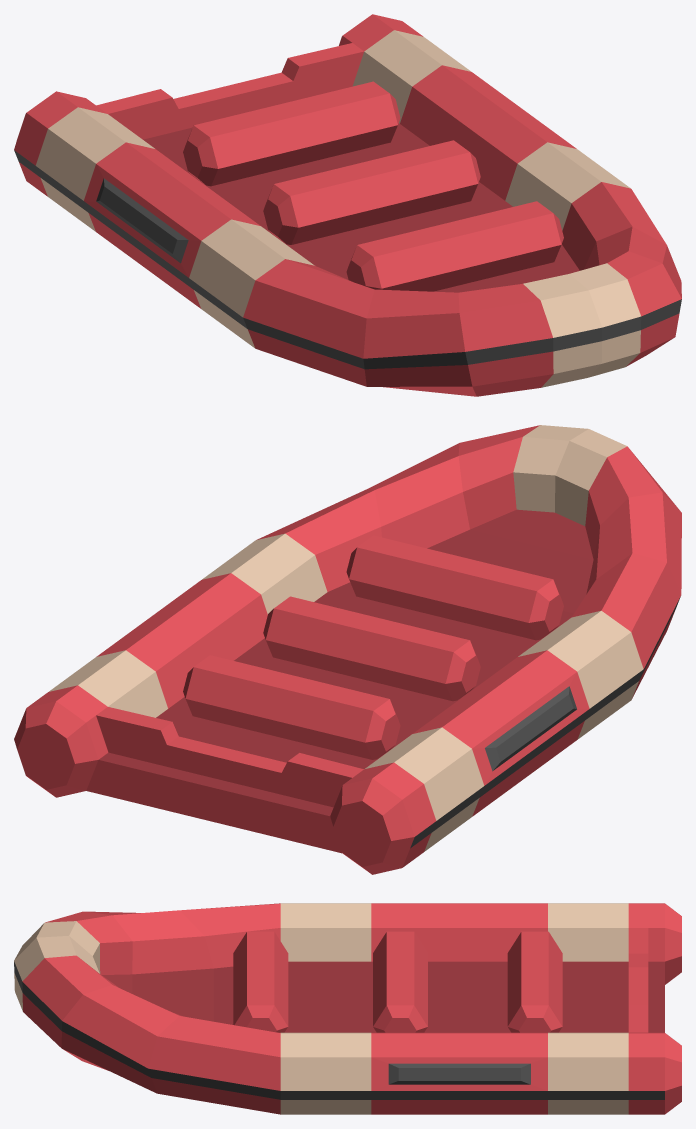
Rendered from Lifeboat.glb.
The picture shows the model from 3 angles, top to bottom: view 1: azimuth 30°, elevation 25°; view 2: azimuth 150°, elevation 25°; view 3: azimuth 270°, elevation 25°; orthographic projection. The views are drawn at different scales.
Visible parts, largest first — view 1: Lifeboat; view 2: Lifeboat; view 3: Lifeboat.
Part boxes in pixels (x1,y1,x2,y2): Lifeboat: (14,14,681,396); Lifeboat: (14,425,681,874); Lifeboat: (14,903,681,1114).
Bounding box in the file's own units: 0.6471 × 0.209 × 1.11.
